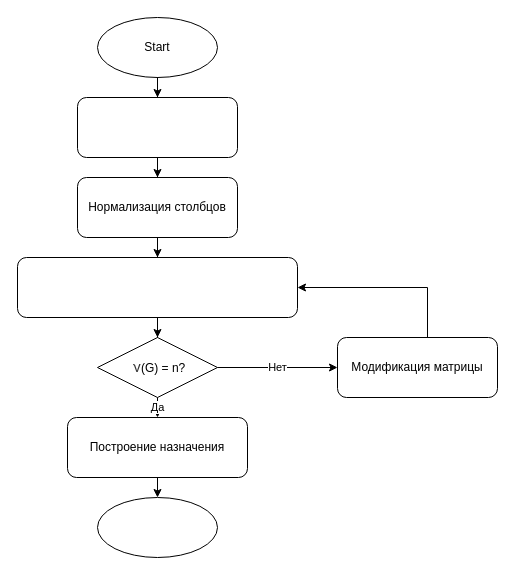
Some shapes in this 515 by 575 pixel diagram are drawn without their labels. Here are the shapes that lost their labels. From the top down, the centre of each, then its label:
At pixel 157 127: "Нормализация строк".
At pixel 157 287: "Построение графа нулей и нахождение максимального паросочетания".
At pixel 157 527: "End".
